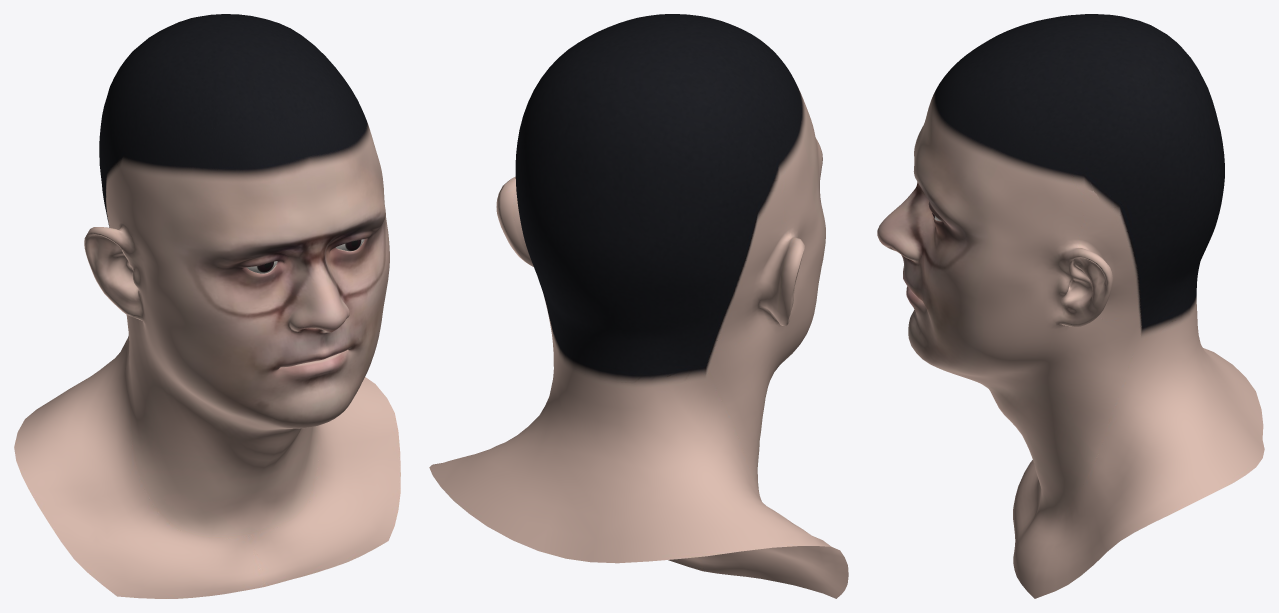
Rendered from realistic.glb.
3 views of the same model, side by side, from view 1: azimuth 30°, elevation 25°; view 2: azimuth 150°, elevation 25°; view 3: azimuth 270°, elevation 25° (orthographic). The views are drawn at different scales.
Parts seen in each view (by area): view 1: skin; view 2: skin; view 3: skin.
Boxes of the visible parts, x1,y1,x2,y2 form: skin: (14, 14, 400, 598); skin: (429, 14, 848, 598); skin: (877, 14, 1264, 598).
Size of the model in its own units: 0.2551 by 0.3517 by 0.2397.
Materials: 7 (3 with a texture image).
